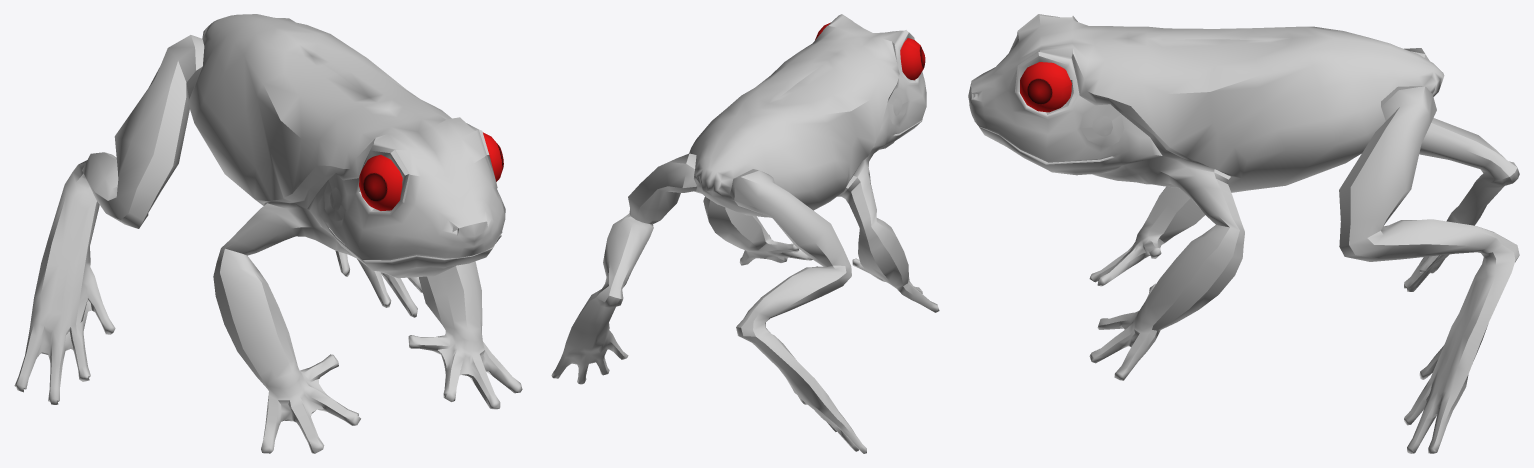
The model's file is Frog.fbx.
The picture shows the model from 3 angles, left to right: view 1: azimuth 30°, elevation 25°; view 2: azimuth 150°, elevation 25°; view 3: azimuth 270°, elevation 25°; orthographic projection. The views are drawn at different scales.
Parts seen in each view (by area): view 1: Frog.002; view 2: Frog.002; view 3: Frog.002.
Boxes of the visible parts, <box> form: Frog.002: <box>14,14,522,453</box>; Frog.002: <box>551,14,939,453</box>; Frog.002: <box>968,14,1519,453</box>.
Size of the model in its own units: 6.22 by 5.33 by 7.86.
